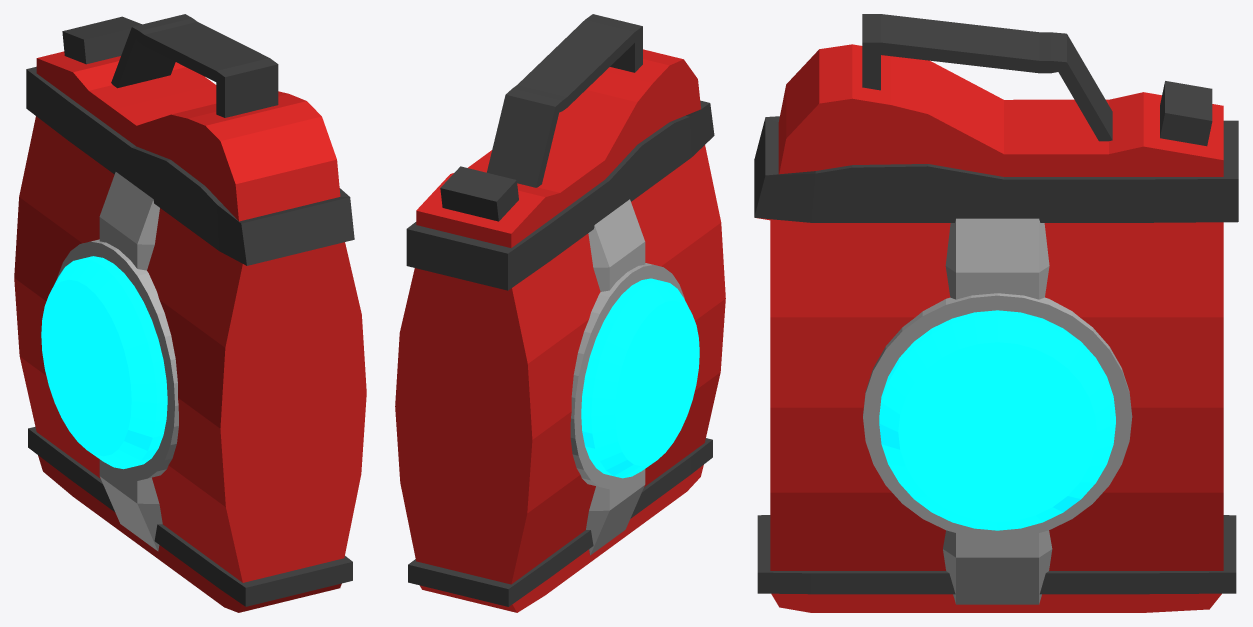
The model's file is octaneFuel.fbx.
3 renders of one model, left to right at view 1: azimuth 30°, elevation 25°; view 2: azimuth 150°, elevation 25°; view 3: azimuth 270°, elevation 25°, orthographic. The views are drawn at different scales.
Visible parts, largest first — view 1: Cube, Cylinder, Cube.001, Cylinder.001; view 2: Cube, Cylinder, Cube.001, Cylinder.001; view 3: Cube, Cylinder, Cube.001, Cylinder.001.
Part boxes in pixels (x1=…): Cube: x1=14, y1=14, x2=366, y2=612; Cylinder: x1=41, y1=256, x2=167, y2=469; Cube.001: x1=99, y1=172, x2=162, y2=551; Cylinder.001: x1=57, y1=239, x2=178, y2=480; Cube: x1=395, y1=14, x2=725, y2=612; Cylinder: x1=581, y1=278, x2=699, y2=478; Cube.001: x1=586, y1=199, x2=645, y2=555; Cylinder.001: x1=570, y1=263, x2=684, y2=489; Cube: x1=754, y1=14, x2=1238, y2=612; Cylinder: x1=879, y1=310, x2=1115, y2=530; Cube.001: x1=943, y1=218, x2=1052, y2=604; Cylinder.001: x1=863, y1=293, x2=1132, y2=539.
Size of the model in its own units: 89.96 by 210 by 166.
